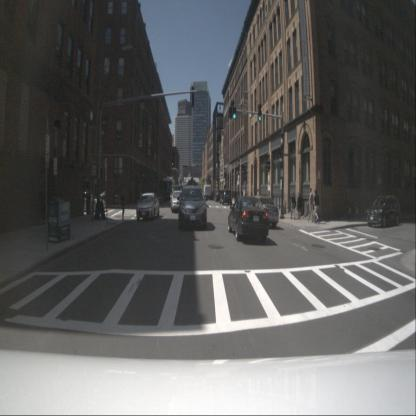human-pedestrian-adult: (306, 188, 314, 223), (314, 190, 320, 224), (290, 191, 296, 220), (297, 191, 302, 219), (121, 189, 125, 221)
vehicle-bus-rigid: (162, 176, 175, 200)
vehicle-car: (228, 196, 269, 242), (178, 186, 206, 230), (366, 195, 400, 228), (247, 196, 278, 228), (72, 191, 106, 213), (136, 193, 160, 221), (171, 191, 186, 213), (99, 189, 121, 203), (170, 186, 182, 202), (220, 189, 232, 205), (215, 191, 223, 202)
vehicle-truck: (204, 184, 212, 200)
